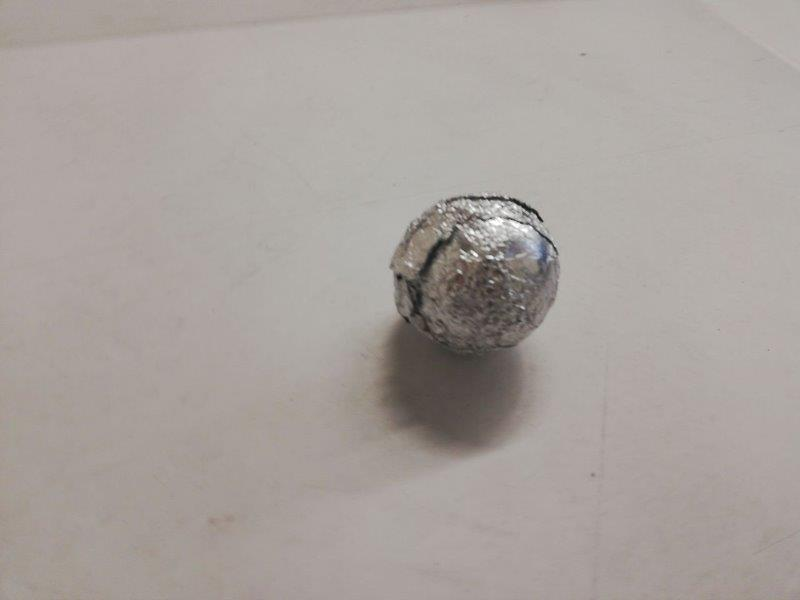bianca: (388, 190, 559, 356)
